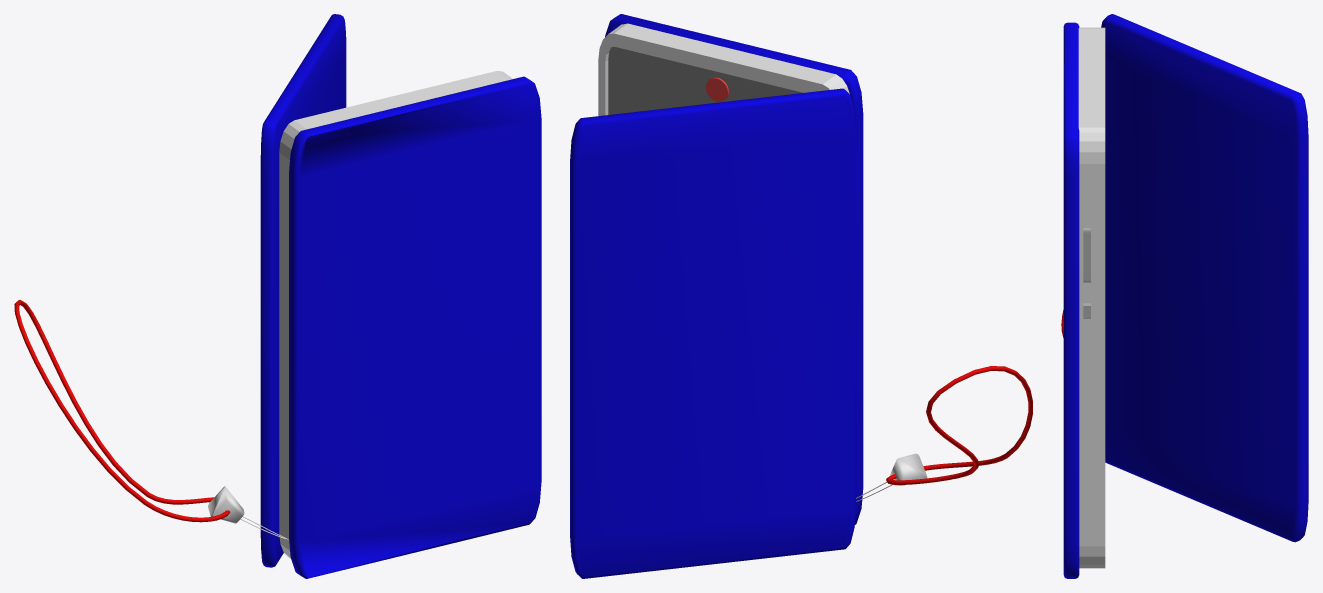
The model's file is Phone.fbx.
3 renders of one model, left to right at view 1: azimuth 30°, elevation 25°; view 2: azimuth 150°, elevation 25°; view 3: azimuth 270°, elevation 25°, orthographic. The views are drawn at different scales.
Visible parts, largest first — view 1: Phone; view 2: Phone; view 3: Phone.
Part boxes in pixels (box(x1,y1,x2,y2)): Phone: box(14, 14, 541, 578); Phone: box(570, 14, 1032, 578); Phone: box(1061, 14, 1308, 578).
Bounding box in the file's own units: 666 × 620 × 311.
